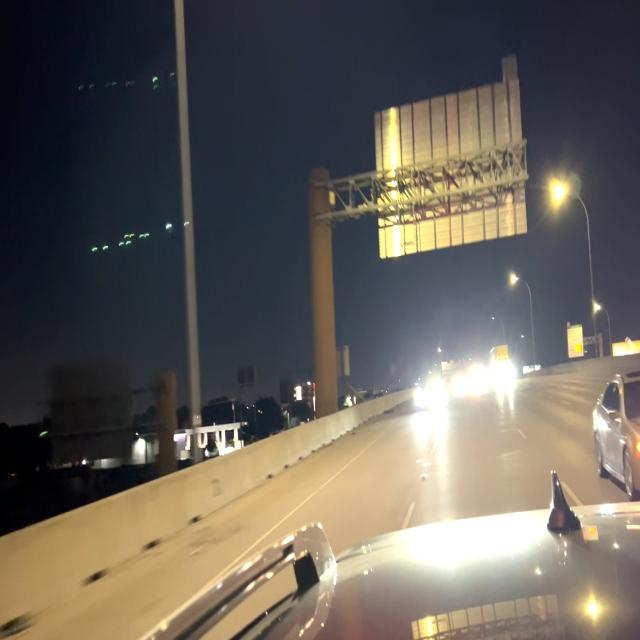back-of-sign: (375, 56, 530, 262), (337, 338, 352, 379)
